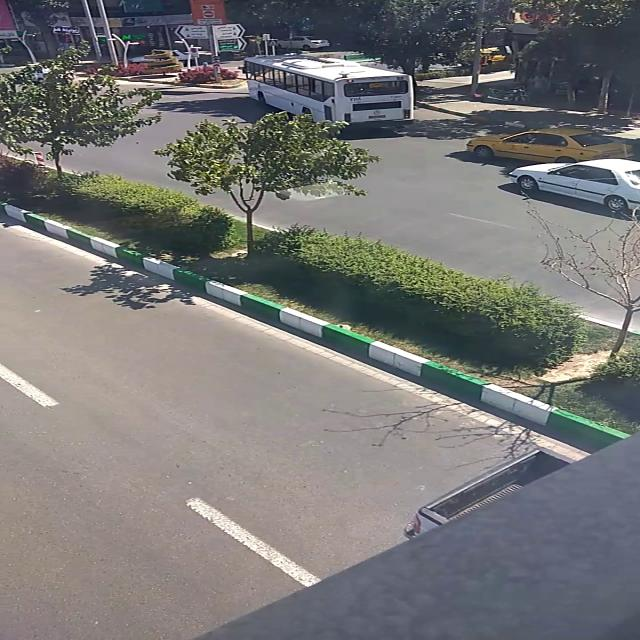bus: (242, 54, 414, 126)
car: (510, 160, 639, 212), (467, 128, 633, 164), (276, 36, 330, 50)
